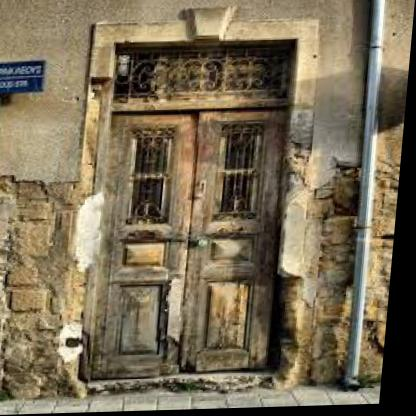door: (93, 47, 305, 381)
